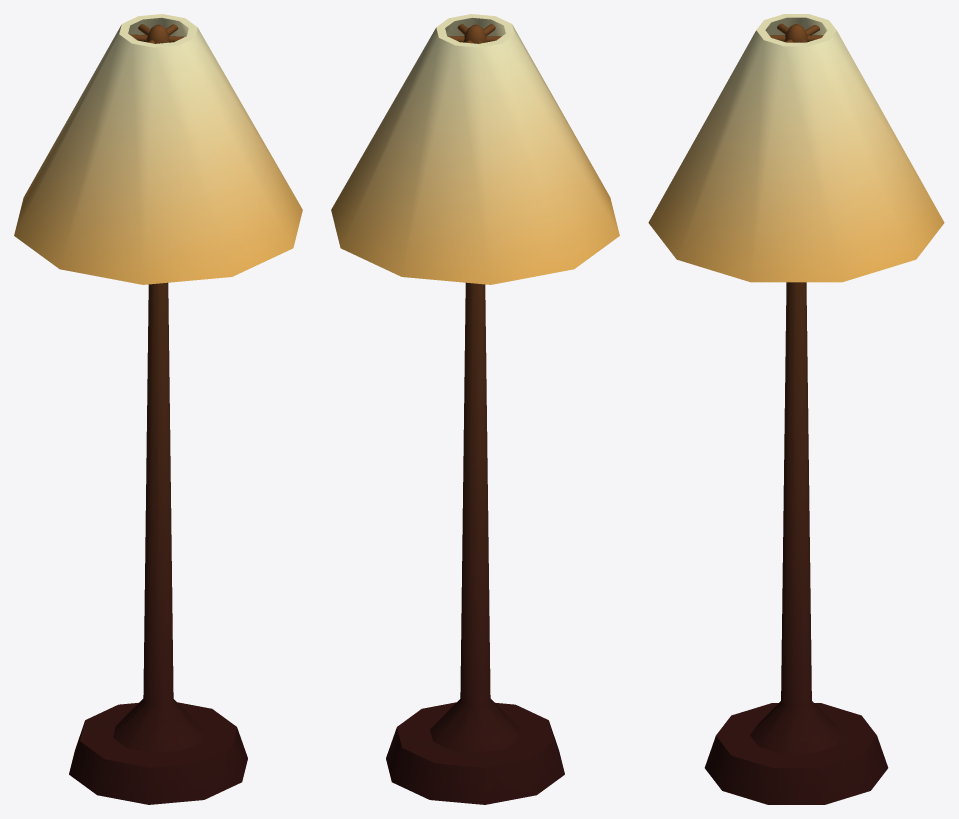
Rendered from FloorLamp.fbx.
The picture shows the model from 3 angles, left to right: view 1: azimuth 30°, elevation 25°; view 2: azimuth 150°, elevation 25°; view 3: azimuth 270°, elevation 25°; orthographic projection.
Visible parts, largest first — view 1: FloorLamp; view 2: FloorLamp; view 3: FloorLamp.
Part boxes in pixels (x1,y1,x2,y2): FloorLamp: [14, 14, 302, 804]; FloorLamp: [331, 14, 619, 804]; FloorLamp: [648, 14, 944, 804].
Bounding box in the file's own units: 78.47 × 82.51 × 228.
